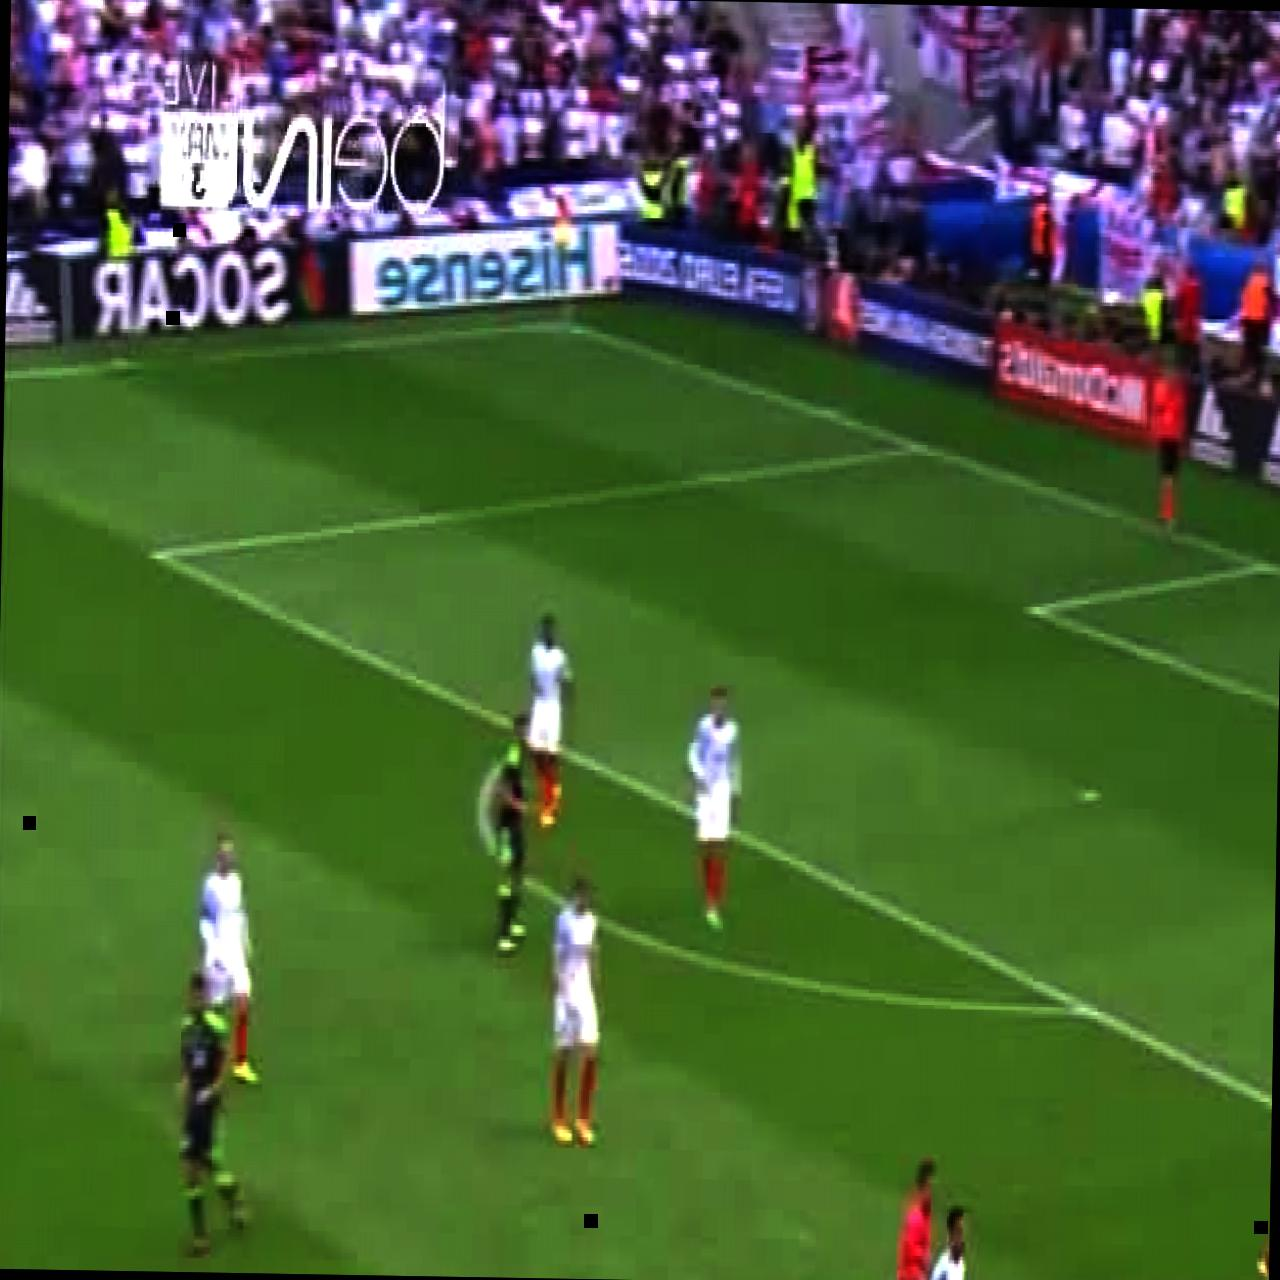football: (175, 974, 252, 1257), (194, 838, 265, 1080), (546, 872, 607, 1150), (683, 684, 744, 936), (524, 604, 574, 828), (492, 712, 534, 958), (880, 1153, 944, 1280), (1150, 362, 1188, 548), (1248, 1018, 1273, 1280), (900, 1208, 978, 1280)
